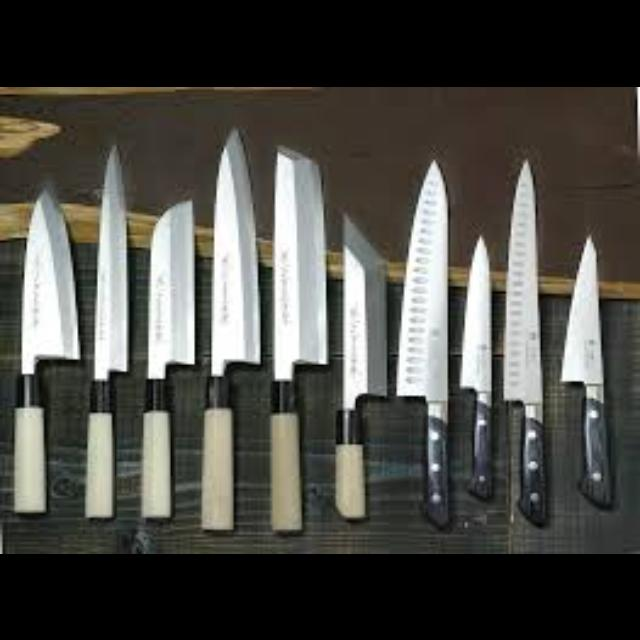Knife: (200, 126, 260, 528), (270, 142, 328, 534), (12, 181, 80, 511), (394, 158, 448, 526), (140, 196, 194, 518), (83, 142, 129, 516), (502, 158, 544, 526), (558, 232, 612, 506), (334, 210, 370, 520), (458, 232, 492, 498)
